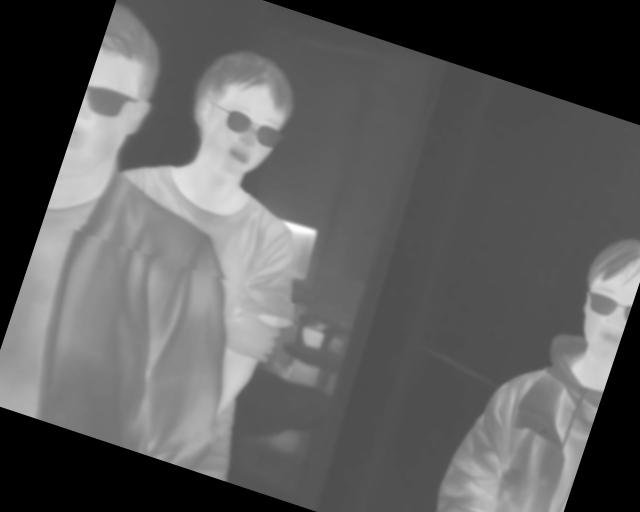face: (175, 35, 310, 184), (566, 227, 640, 357)
